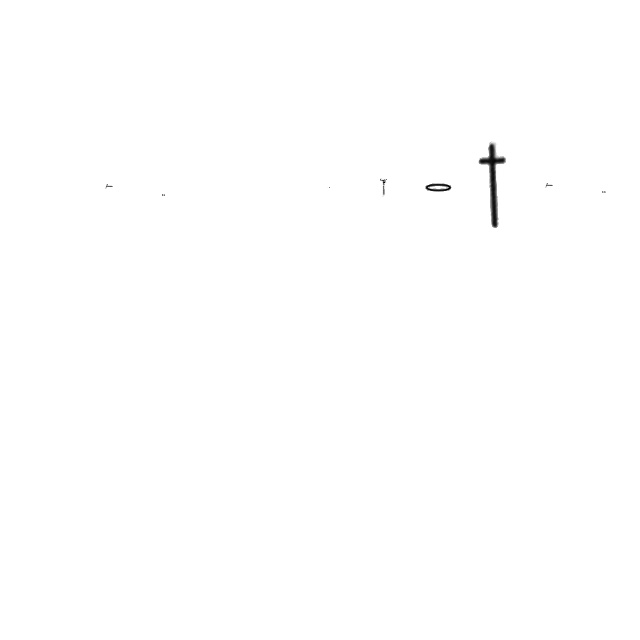chain: (424, 182, 454, 194), (162, 194, 166, 196), (602, 191, 606, 193), (328, 188, 330, 188)
double treble: (380, 178, 388, 198)
enseble_chain: (468, 142, 520, 230), (105, 184, 113, 190), (545, 184, 553, 188)
